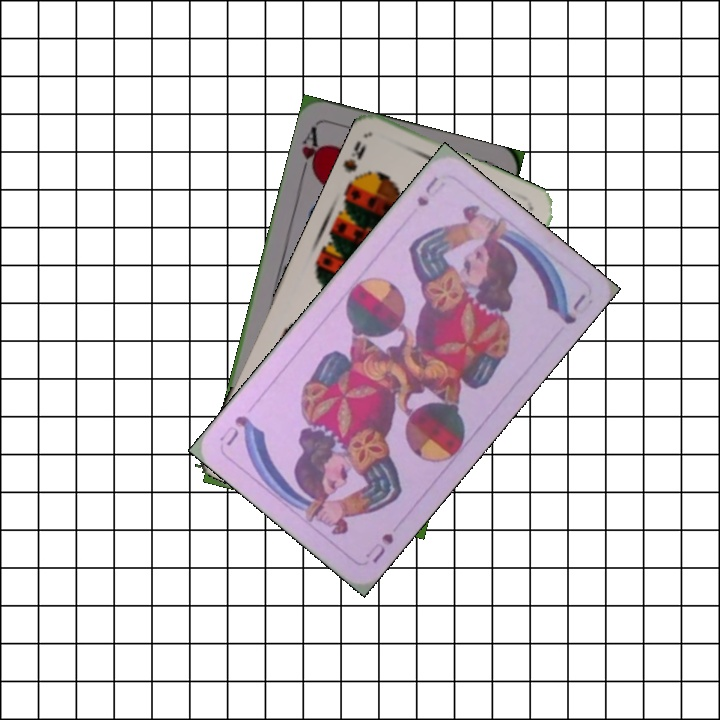HA: (297, 122, 325, 181)
S9: (340, 136, 370, 192)
SU: (361, 528, 397, 566), (412, 172, 448, 209)
